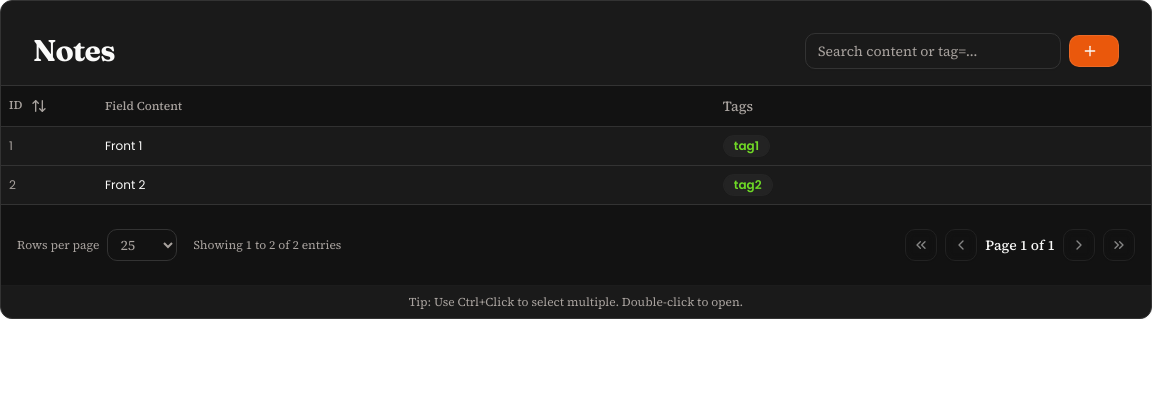
Test case: NoteCRUD Component › shows bulk actions when notes are selected
Expected: the text "Front 1" is shown, [105,138,142,154]
Click the text "Front 1": (576, 146) [1,126,1151,165]
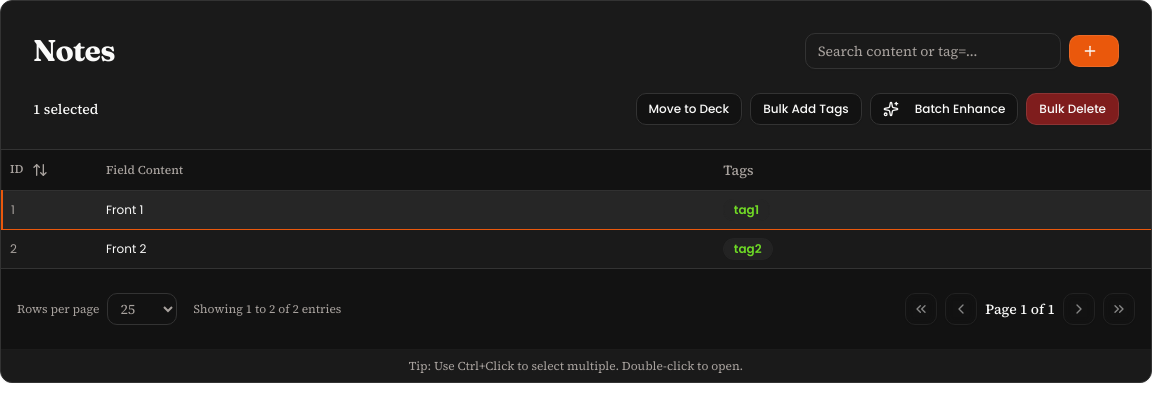
Now the text "1 selected" is shown, box [33,99,98,119]
Now the button "Move to Deck" is shown, box [636,93,742,125]
